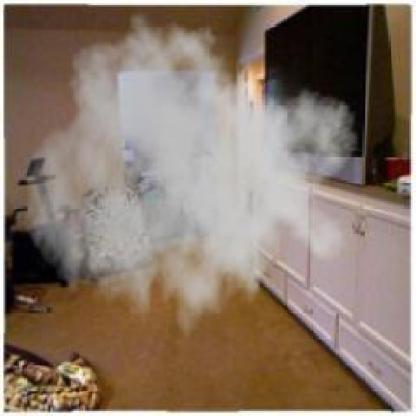Smoke: (24, 4, 361, 356)
